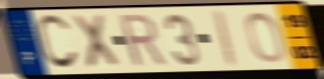3: (164, 12, 201, 67)
C: (34, 12, 81, 72)
I: (213, 8, 241, 70)
O: (244, 10, 287, 65)
R: (116, 12, 170, 69)
X: (69, 12, 123, 70)
